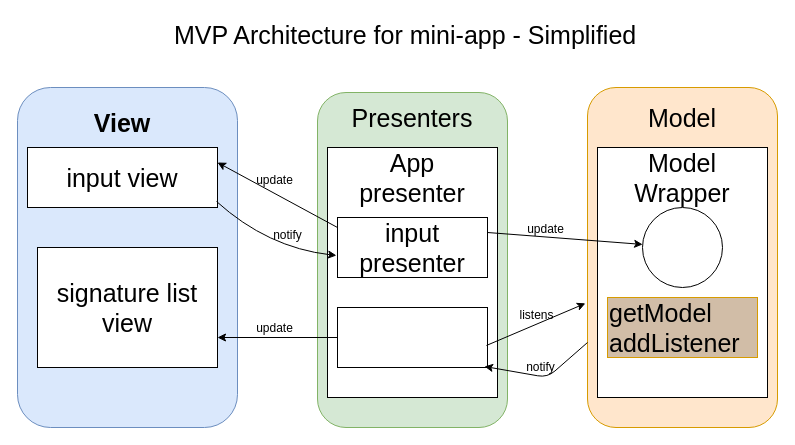
The diagram is 795 pixels wide and 445 high, and some of its shapes have lost their labels. The shapes that lost their labels are listed below. From the top down, each one's centre as x and y in pixels, then its label:
[682,247]: JS model
[412,337]: signature list presenter
